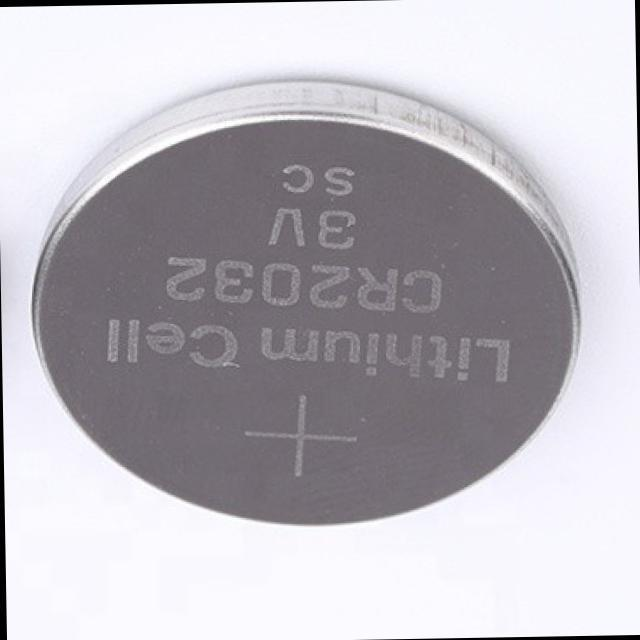COIN: (24, 72, 586, 534)
